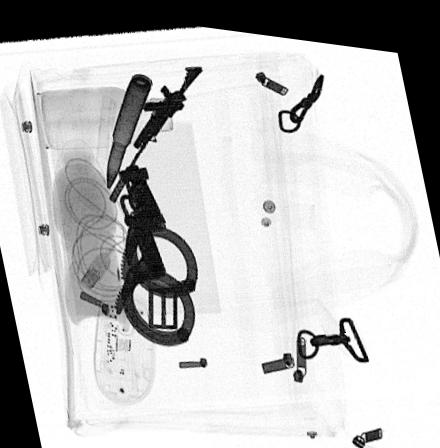Bullet: (106, 69, 152, 188)
Gun: (109, 62, 203, 202)
HandCuffs: (112, 159, 197, 341)
